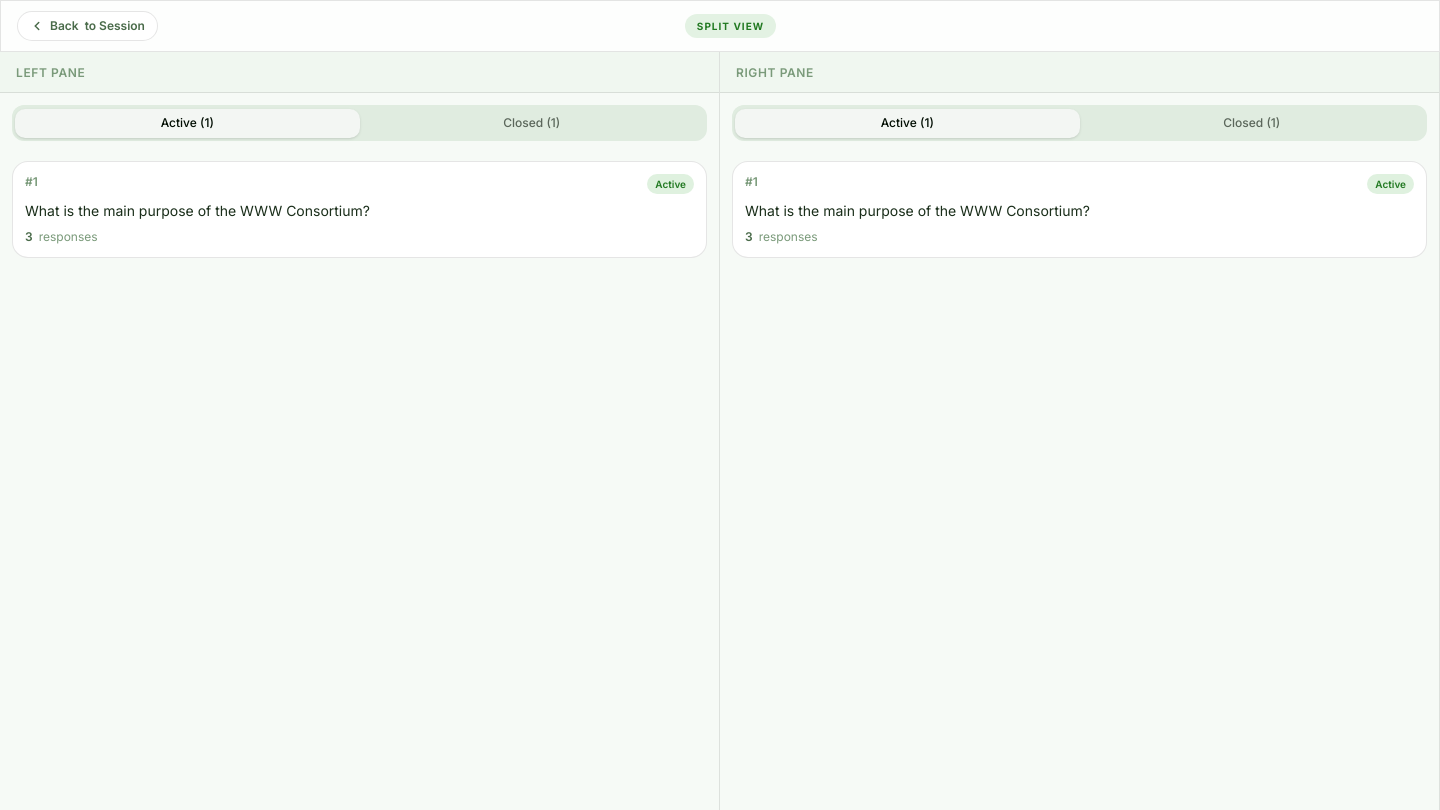
it: SplitView Component › Discussion Detail View › [US 1.37][US 1.39] fetches responses from Supabase when discussion is selected
Click the 1st text "What is the main purpose of the WWW Consortium?". click: point(198, 210)
box: [25,202,370,219]
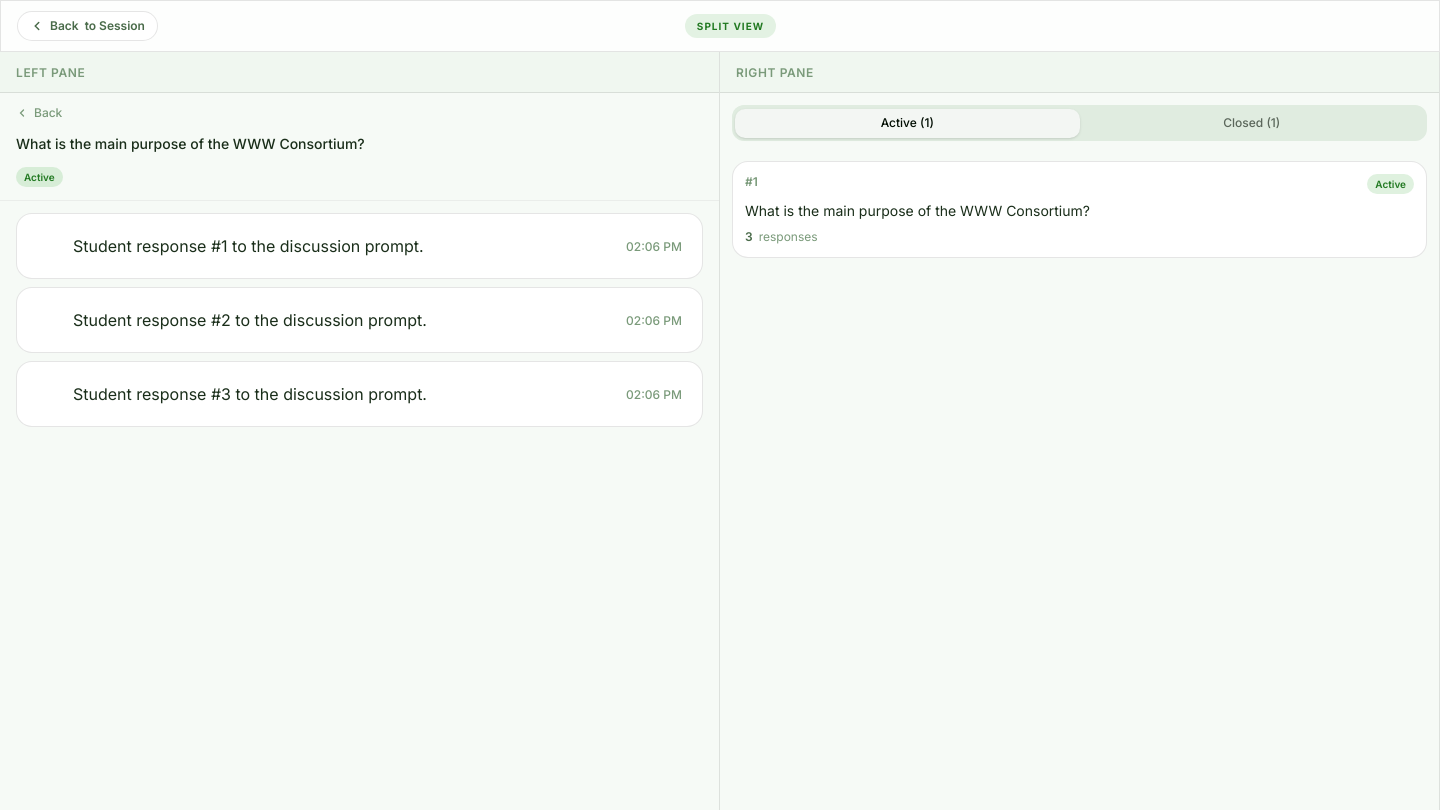
Result: the text "Student response #1 to the discussion prompt." is shown at [73,236,424,256]
Result: the text "Student response #2 to the discussion prompt." is shown at [73,310,427,330]
Result: the text "Student response #3 to the discussion prompt." is shown at [73,384,427,404]
